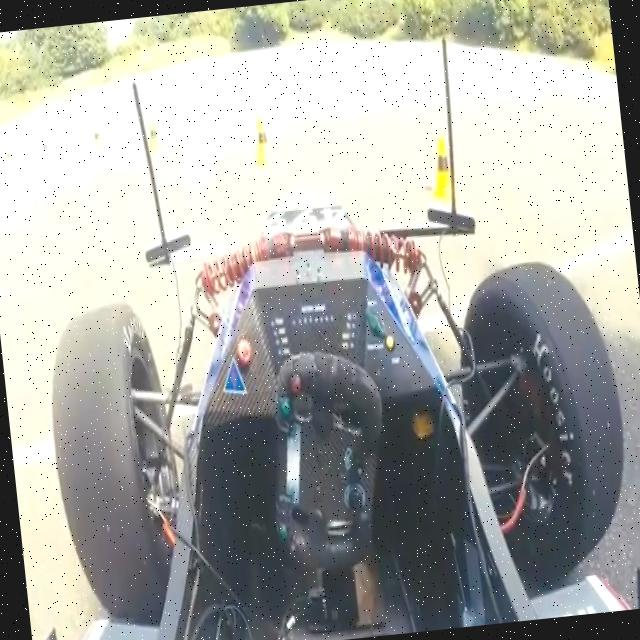yellow_cone: (428, 135, 460, 201), (250, 115, 276, 167)
